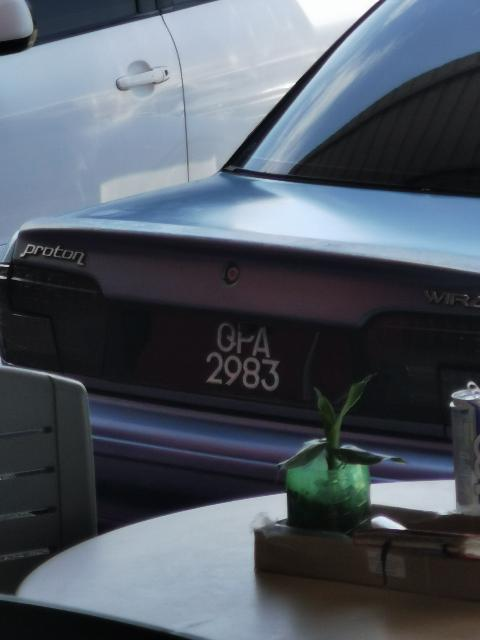License_Plate: (197, 319, 289, 397)
car: (1, 2, 480, 507)
